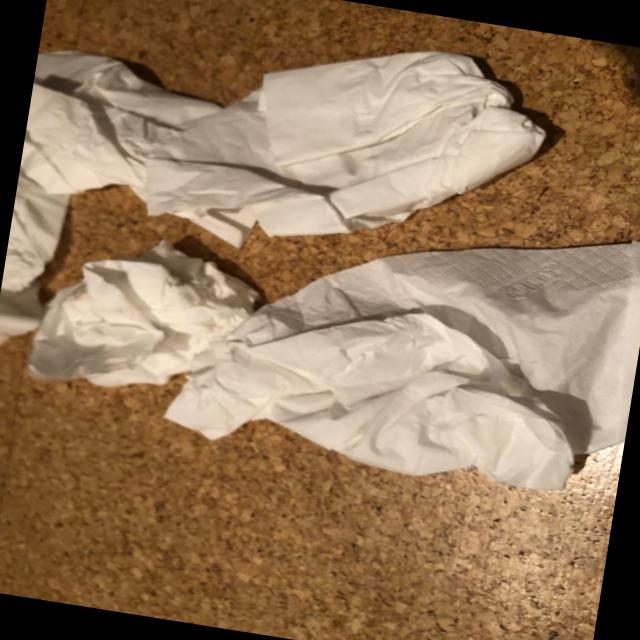organic waste: (155, 168, 640, 508), (130, 4, 558, 294), (0, 44, 223, 377), (23, 218, 268, 416)
